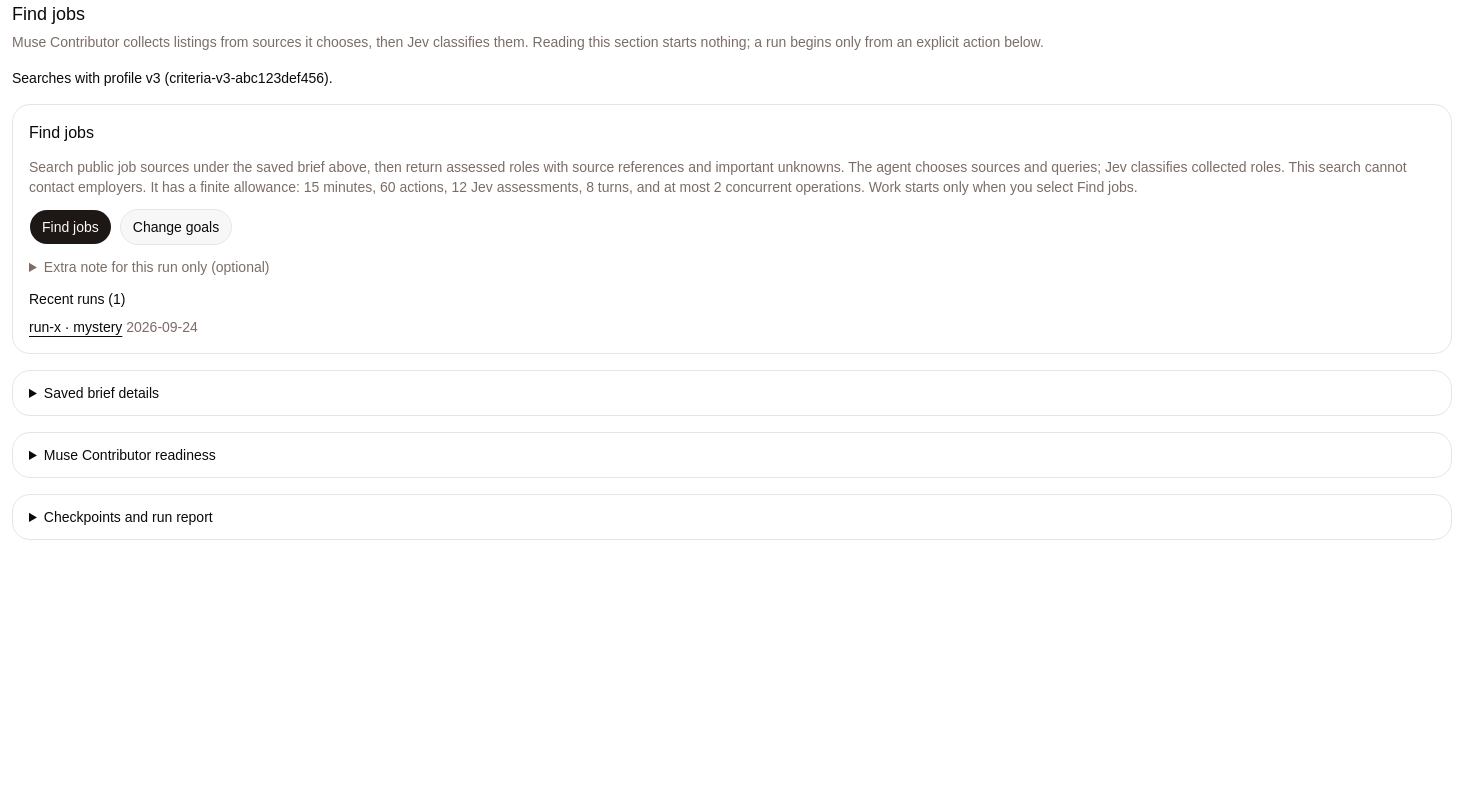
Test: DiscoverySection › restores an unlisted run explicitly from its history link
Expected: the button "Find jobs" is shown, left=29, top=209, right=112, bottom=245
Step 1. Click the link "run-x · mystery" → x=76, y=327, box left=29, top=319, right=122, bottom=335
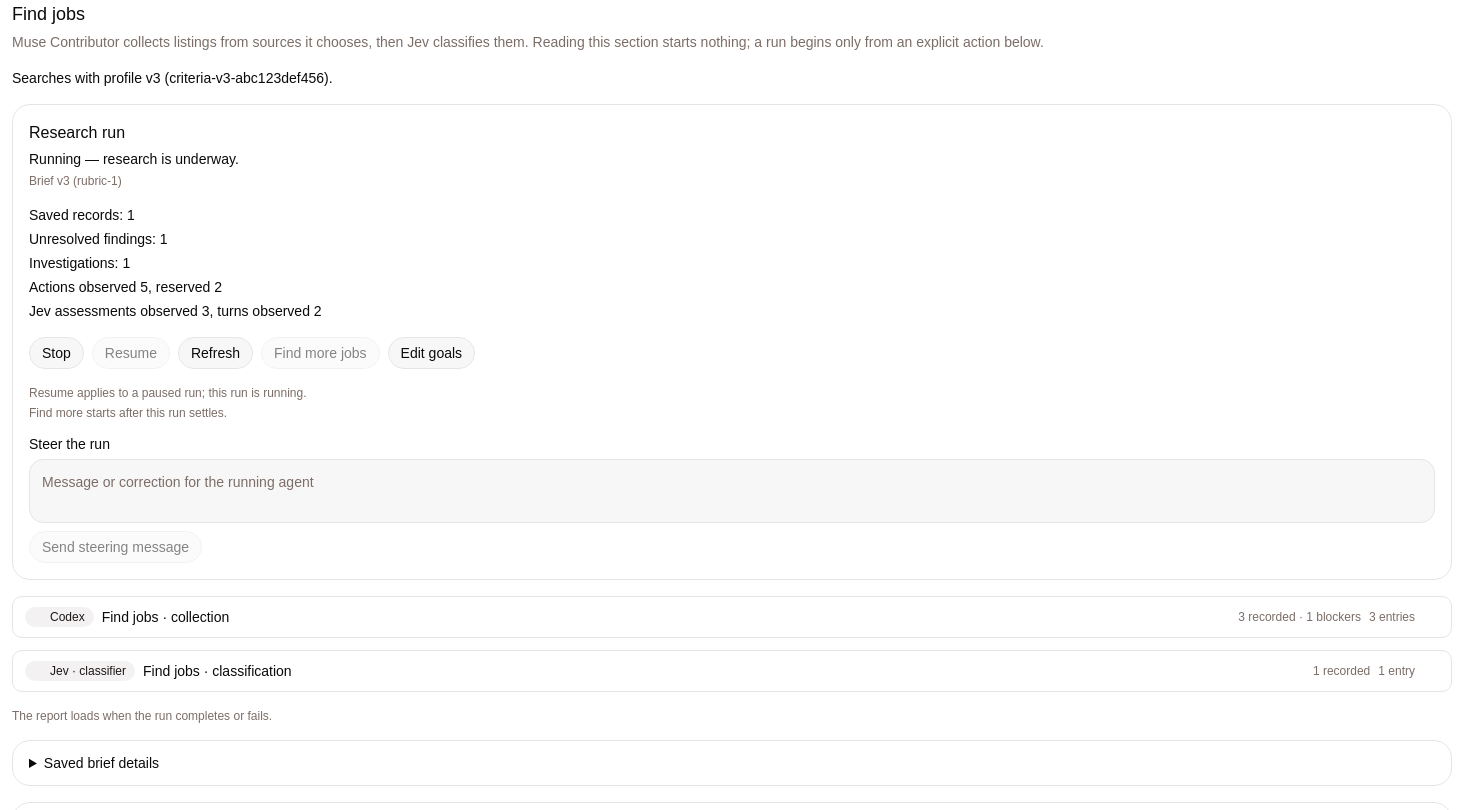
Now the text "Running — research is underway." is shown, box left=29, top=151, right=239, bottom=167
